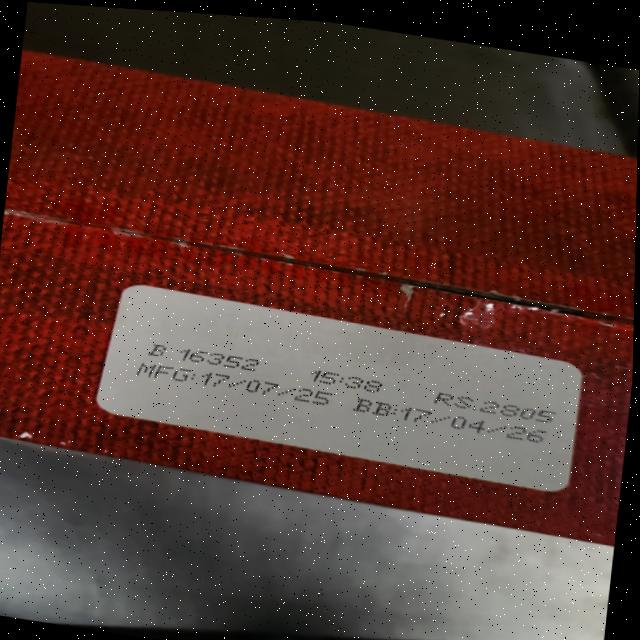BB: (350, 396, 552, 445)
Batch: (148, 342, 261, 372)
MFG: (136, 360, 336, 407)
RS: (431, 390, 559, 425)
TimeStamp: (310, 369, 387, 395)
